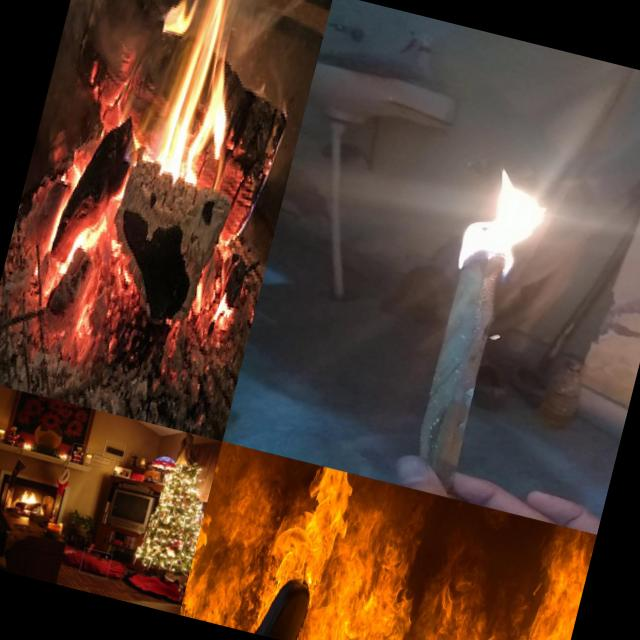fire: (178, 441, 596, 640), (39, 0, 281, 315), (449, 142, 585, 292), (16, 489, 44, 508)
